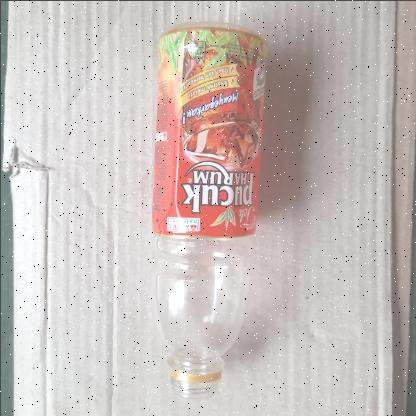Plastic Bottle: (152, 21, 268, 397)
